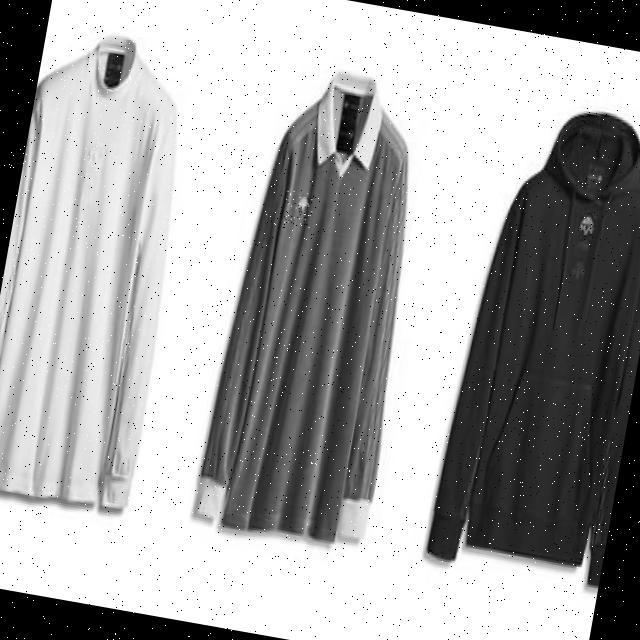Adidas: (281, 188, 315, 228), (568, 205, 599, 245)
